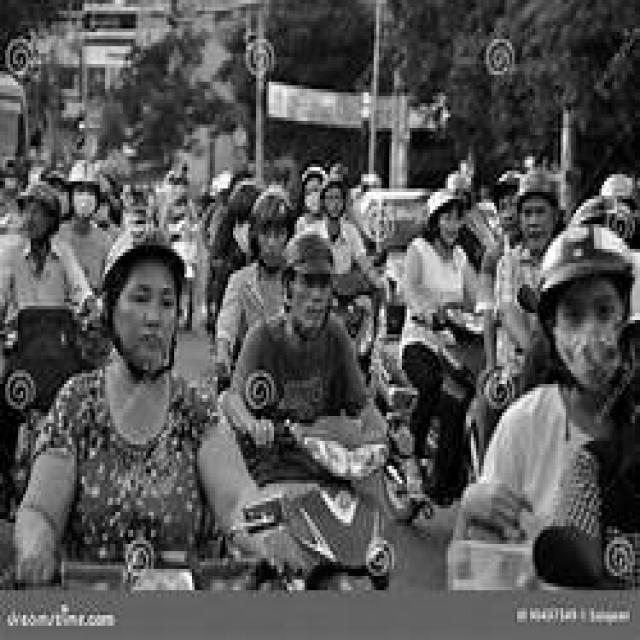Car: (357, 188, 430, 253), (460, 201, 496, 268)
Two Wheeler: (61, 252, 481, 589)
